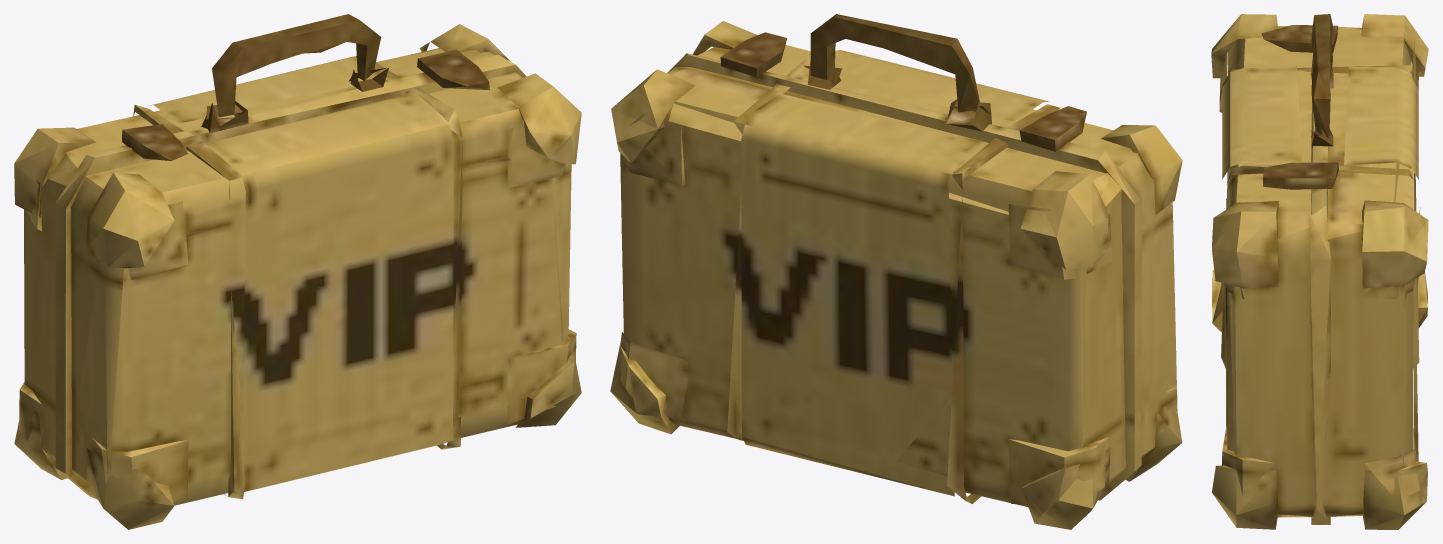
The model's file is prop.briefcase_gold.glb.
3 renders of one model, left to right at view 1: azimuth 30°, elevation 25°; view 2: azimuth 150°, elevation 25°; view 3: azimuth 270°, elevation 25°, orthographic. The views are drawn at different scales.
Parts seen in each view (by area): view 1: body; view 2: body; view 3: body.
Part boxes in pixels (bbox=[...]): body: bbox=[14, 14, 581, 529]; body: bbox=[610, 14, 1182, 529]; body: bbox=[1211, 14, 1428, 529].
Bounding box in the file's own units: 0.3196 × 0.2668 × 0.1337.
Materials: 1 (1 with a texture image).
